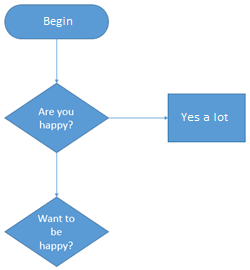arrow: (105, 114, 168, 120), (53, 150, 60, 198), (53, 39, 59, 84)
decision: (3, 196, 110, 268), (3, 82, 108, 154)
process: (166, 93, 247, 144)
terminator: (3, 3, 111, 41)
text: (35, 213, 75, 252), (37, 106, 75, 131), (180, 112, 229, 122), (43, 15, 75, 29)
